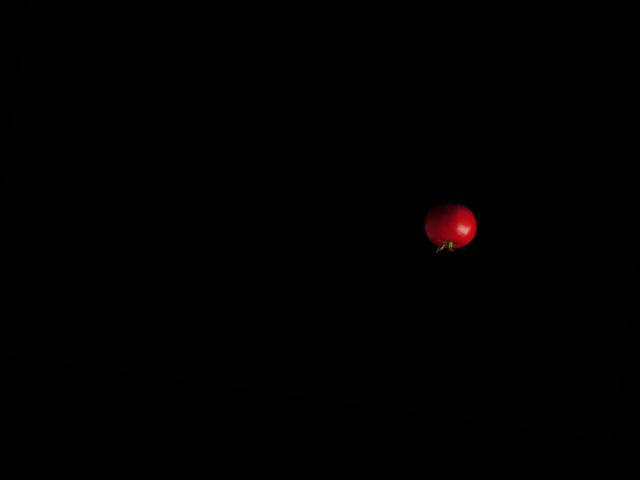tomato: (421, 200, 479, 251)
